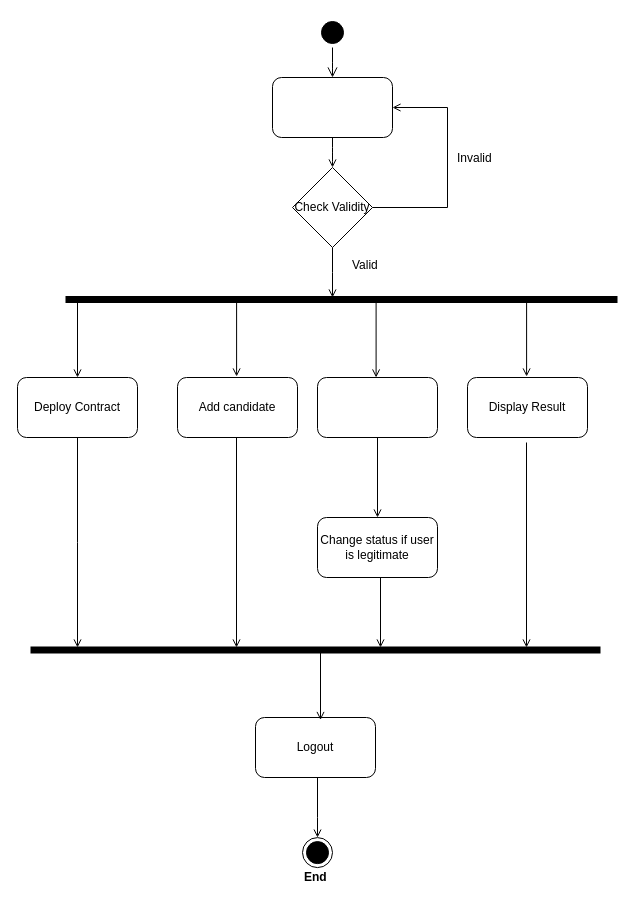
This 638x905 diagram has some shape labels left out. Here are the shapes that lost their labels. From the top down, the centre of each, then its label:
At [332,107]: "Login".
At [377,407]: "Verify user".
